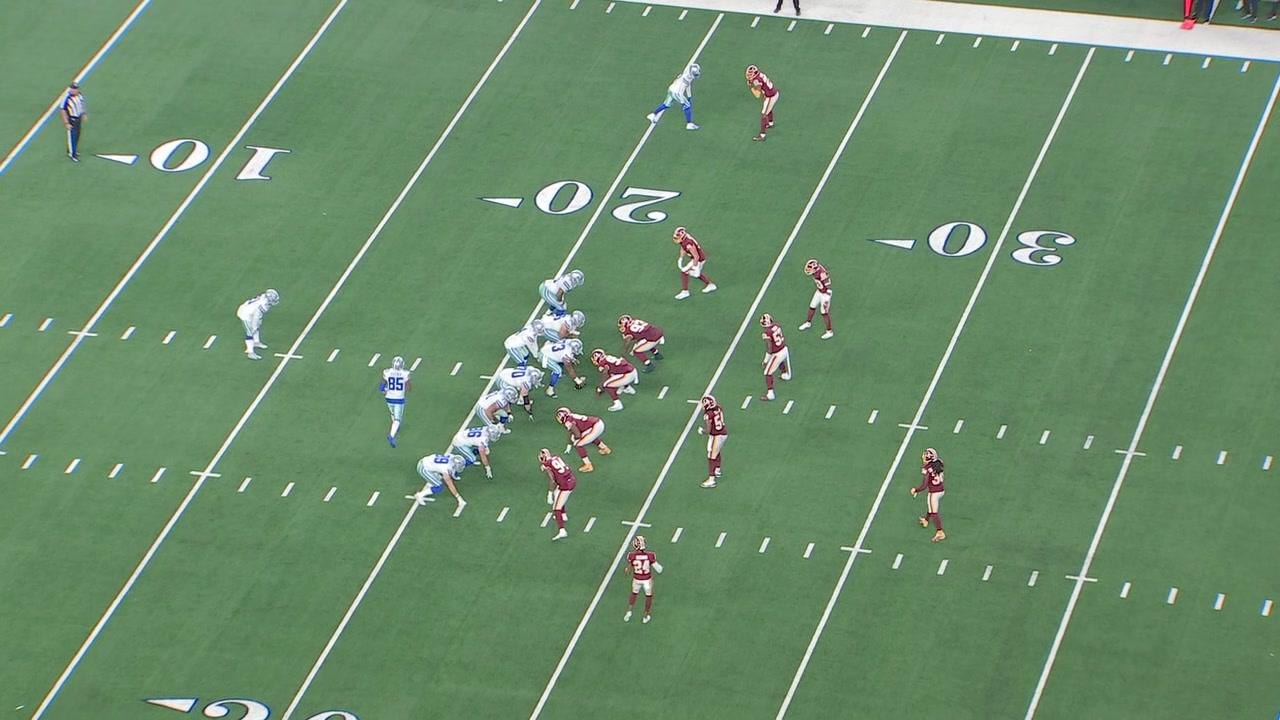defense: (667, 223, 725, 306), (620, 535, 668, 628), (914, 442, 951, 554), (750, 311, 796, 400), (556, 408, 615, 474), (535, 448, 575, 538), (697, 392, 727, 494), (595, 351, 644, 410), (800, 256, 835, 338), (743, 62, 777, 144), (621, 314, 667, 368)
oline: (538, 338, 586, 401), (493, 366, 541, 423), (535, 266, 589, 313), (541, 301, 590, 343), (475, 388, 516, 436)
qb: (500, 317, 545, 369)
ref: (56, 75, 96, 167)
skill: (644, 59, 703, 129), (378, 354, 418, 446), (408, 456, 469, 510), (234, 291, 282, 359), (449, 422, 499, 480)
